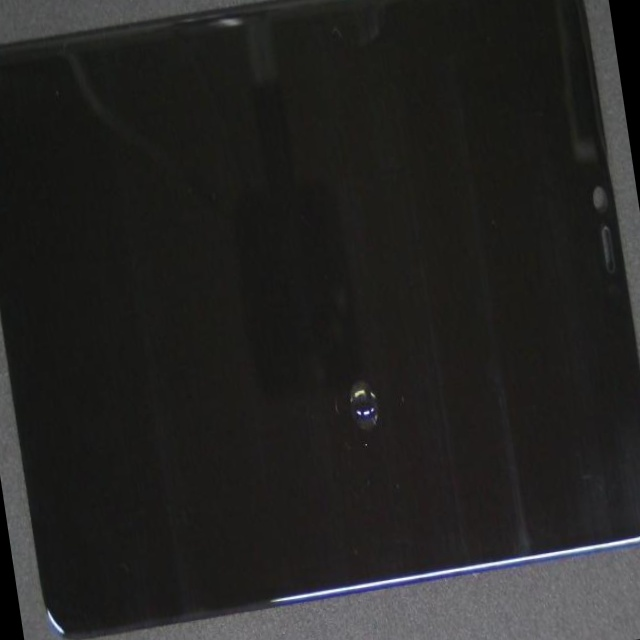oil: (123, 122, 568, 640)
